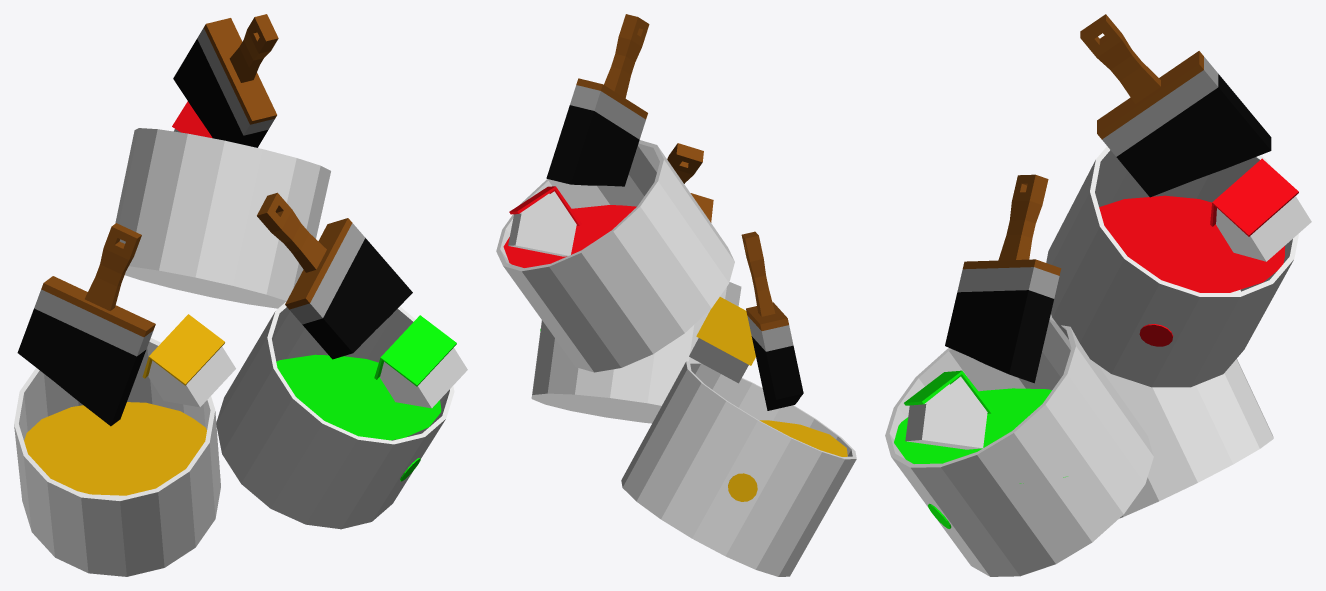
The model's file is maison.gltf.
3 views of the same model, side by side, from view 1: azimuth 30°, elevation 25°; view 2: azimuth 150°, elevation 25°; view 3: azimuth 270°, elevation 25° (orthographic). The views are drawn at different scales.
Parts seen in each view (by area): view 1: pot, pot.002, pot.001, paint.003, paint.004, brush.001, brush.002, macnhe, macnhe.001, macnhe.002, brush, Cube.001 (+7 smaller); view 2: pot.001, pot, pot.002, brush, Cube, paint, macnhe, brush.001, Cube.001, macnhe.001, cerclage, Cube.003 (+5 smaller); view 3: pot.002, pot, pot.001, paint, brush, brush.002, macnhe, Cube.004, paint.004, Cube.002, macnhe.002, cerclage (+4 smaller).
Boxes of the visible parts, x1,y1,x2,y2 form: pot: (115, 128, 330, 308); pot.002: (216, 302, 454, 529); pot.001: (14, 338, 220, 576); paint.003: (24, 402, 206, 495); paint.004: (276, 354, 441, 440); brush.001: (17, 308, 145, 426); brush.002: (302, 238, 412, 359); macnhe: (203, 14, 278, 124); macnhe.001: (41, 223, 155, 337); macnhe.002: (257, 192, 352, 309); brush: (173, 39, 268, 147); Cube.001: (142, 314, 224, 385); pot.001: (621, 361, 856, 576); pot: (496, 140, 734, 372); pot.002: (531, 282, 741, 423); brush: (546, 105, 639, 186); Cube: (508, 191, 576, 256); paint: (503, 205, 636, 267); macnhe: (576, 14, 649, 119); brush.001: (751, 336, 803, 410); Cube.001: (696, 297, 755, 365); macnhe.001: (741, 231, 788, 330); cerclage: (570, 85, 645, 139); Cube.003: (689, 338, 748, 383); pot.002: (885, 314, 1153, 576); pot: (1046, 146, 1299, 387); pot.001: (1098, 359, 1273, 518); paint: (1099, 195, 1284, 292); brush: (1116, 74, 1271, 197); brush.002: (945, 290, 1053, 383); macnhe: (1080, 14, 1203, 139); Cube.004: (905, 376, 987, 449); paint.004: (894, 388, 1067, 483); Cube.002: (1210, 158, 1298, 236); macnhe.002: (962, 174, 1061, 275); cerclage: (1102, 57, 1218, 156).
Bounding box in the file's own units: 28.38 × 39.75 × 26.7.
